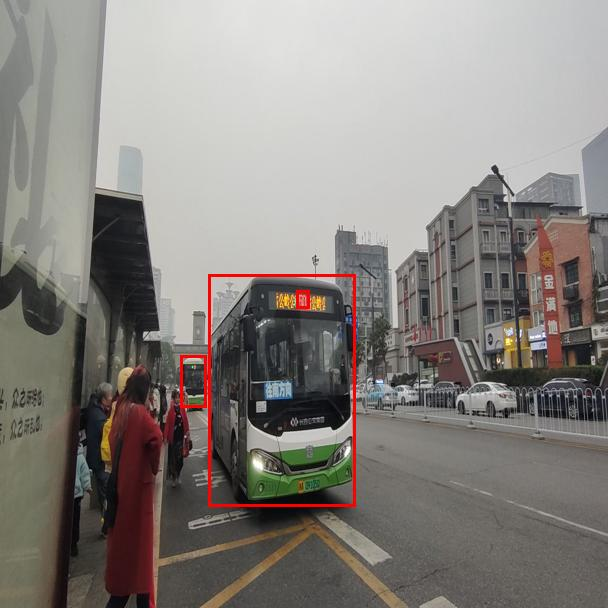bus: (208, 274, 355, 506), (180, 355, 206, 407)
screen: (296, 290, 309, 308)
